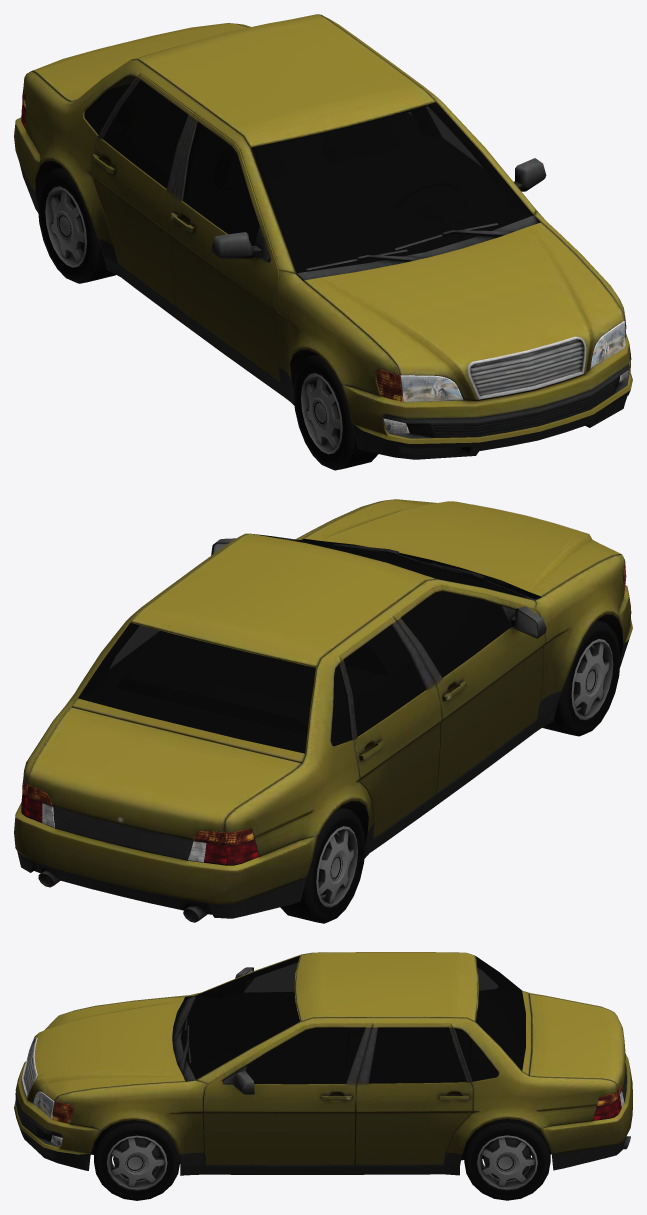
Rendered from pc_sedan.glb.
3 renders of one model, top to bottom at view 1: azimuth 30°, elevation 25°; view 2: azimuth 150°, elevation 25°; view 3: azimuth 270°, elevation 25°, orthographic. The views are drawn at different scales.
Visible parts, largest first — view 1: Sedan Body_Body_0, Sedan Body_Glass_0, Wheel_A002_Wheel_0, Wheel_A003_Wheel_0, Sedan Body_Optics_0; view 2: Sedan Body_Body_0, Sedan Body_Glass_0, Wheel_A003_Wheel_0, Wheel_A002_Wheel_0, Sedan Body_Optics_0; view 3: Sedan Body_Body_0, Sedan Body_Glass_0, Wheel_A001_Wheel_0, Wheel_A_Wheel_0, Sedan Body_Optics_0.
Part boxes in pixels (left/top/right/bottom): Sedan Body_Body_0: left=14, top=14, right=632, bottom=459; Sedan Body_Glass_0: left=84, top=75, right=533, bottom=272; Wheel_A002_Wheel_0: left=293, top=354, right=378, bottom=470; Wheel_A003_Wheel_0: left=38, top=167, right=115, bottom=283; Sedan Body_Optics_0: left=21, top=89, right=630, bottom=433; Sedan Body_Body_0: left=14, top=499, right=632, bottom=922; Sedan Body_Glass_0: left=78, top=534, right=531, bottom=753; Wheel_A003_Wheel_0: left=280, top=807, right=365, bottom=923; Wheel_A002_Wheel_0: left=543, top=620, right=620, bottom=736; Sedan Body_Optics_0: left=21, top=561, right=626, bottom=865; Sedan Body_Body_0: left=14, top=952, right=632, bottom=1175; Sedan Body_Glass_0: left=180, top=956, right=525, bottom=1084; Wheel_A001_Wheel_0: left=464, top=1119, right=550, bottom=1200; Wheel_A_Wheel_0: left=94, top=1120, right=179, bottom=1200; Sedan Body_Optics_0: left=33, top=1085, right=624, bottom=1146.
Bounding box in the file's own units: 1.94 × 1.34 × 4.36.
Materials: 4 (3 with a texture image).
